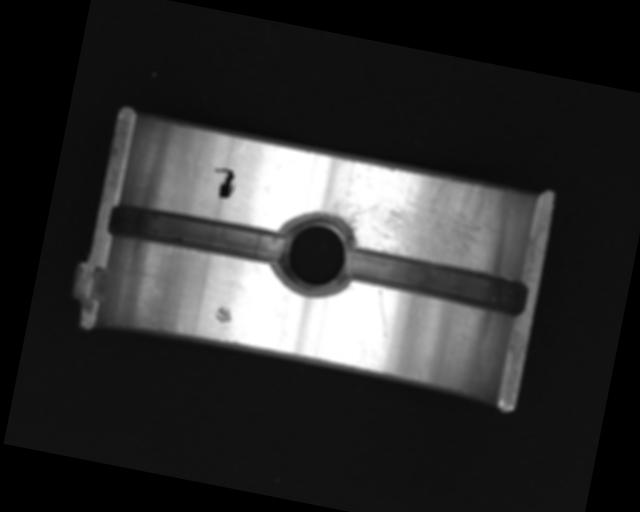blot: (209, 165, 238, 201)
bruise: (212, 304, 234, 324)
gap: (340, 243, 530, 319), (107, 198, 288, 268)
hole: (271, 205, 359, 300)
nick: (370, 288, 396, 337)
scratch: (323, 156, 512, 272)
